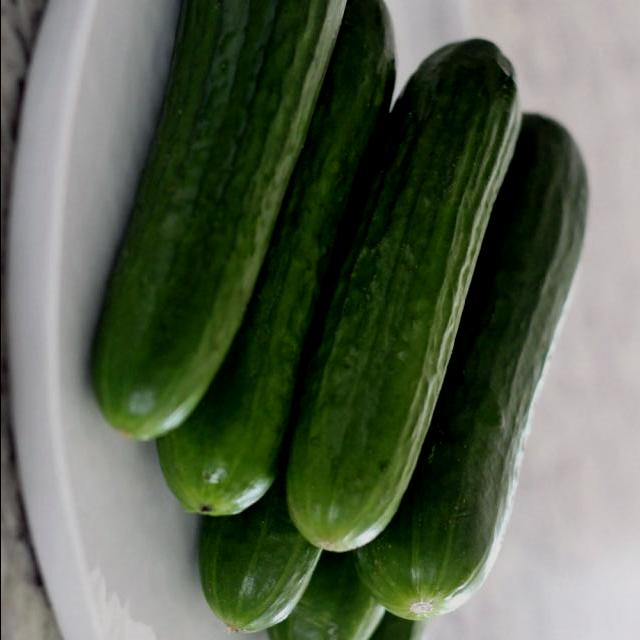Cucumber: (153, 6, 392, 508), (284, 44, 520, 546)
